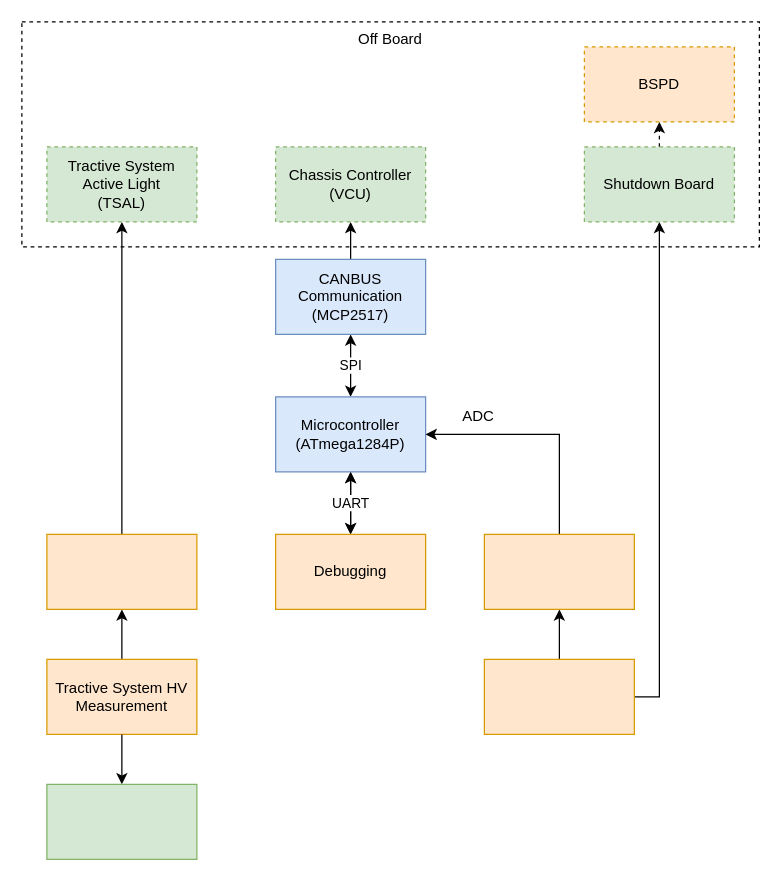
The diagram is 781 pixels wide and 881 high, and some of its shapes have lost their labels. The shapes that lost their labels are listed below. From the top down, each one's box as (x1, y1, x2, y2) in pixels, then its label:
(46, 533, 197, 609): TSAL Threshold Circuit
(483, 533, 634, 609): Signal Amplification
(483, 658, 634, 734): Hall Effect Current Sensor
(46, 783, 197, 859): IMD
